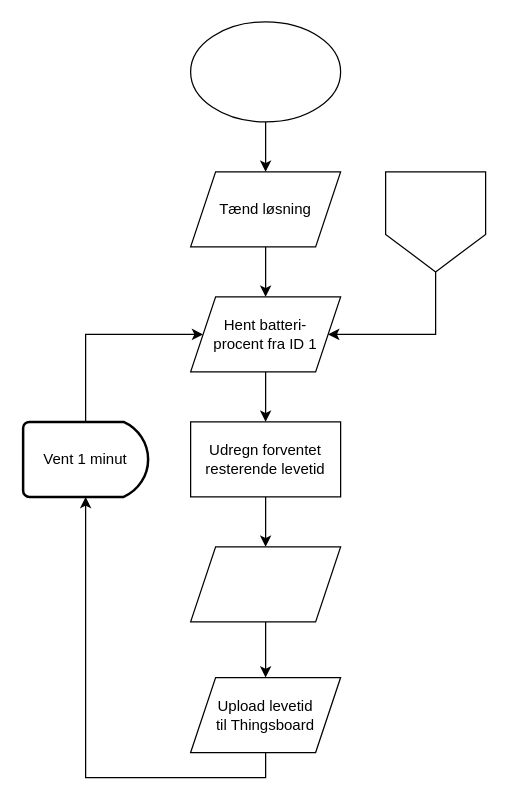
Some shapes in this 508 by 810 pixel diagram are drawn without their labels. The centre of each missing label's shape, as x and y in pixels:
Display leveitd på lokal konsol: the point at 265,584
ID 1: the point at 435,221
ID 7 Start: the point at 265,71
